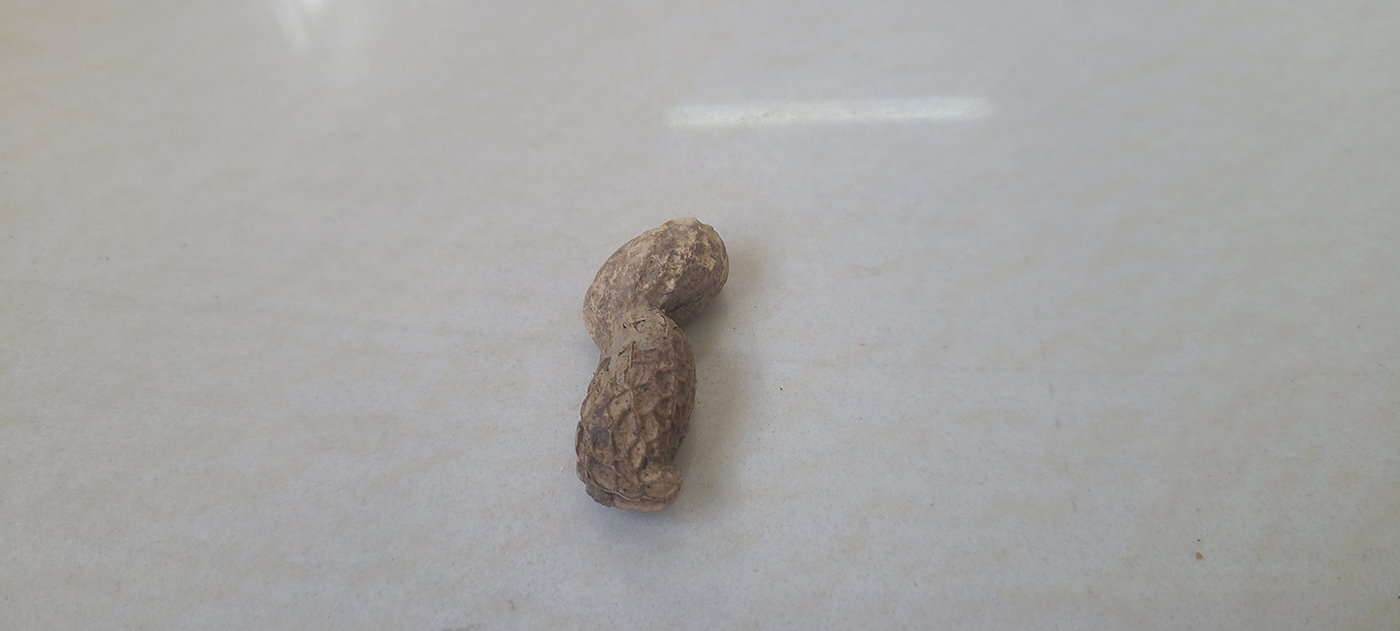l: (575, 214, 730, 509)
